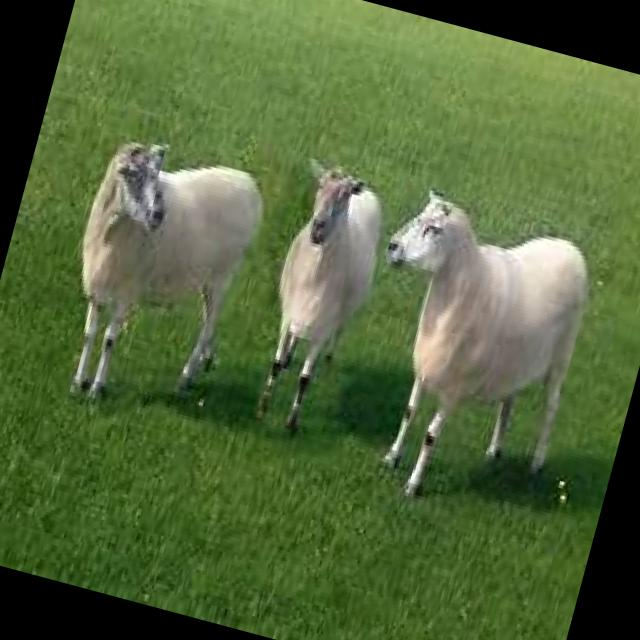animal: (330, 182, 606, 522), (41, 134, 274, 430), (240, 161, 396, 440)
